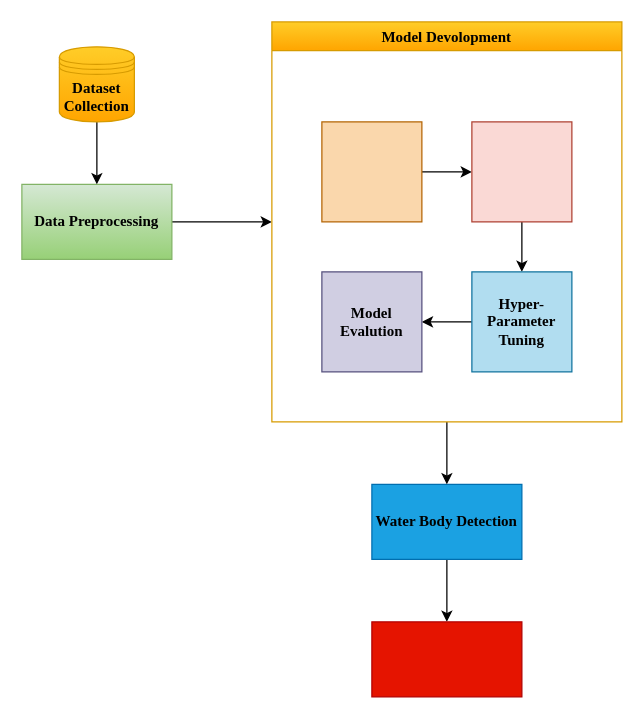
Image size: 644x719. Some labels were removed from this diagram. The shapes that lost their labels are listed below. From the top down, each one's centre as x and y in pixels, then its label:
At point (371, 171): "Model Selection".
At point (521, 171): "Model Training".
At point (446, 659): "Trend Analysis".
